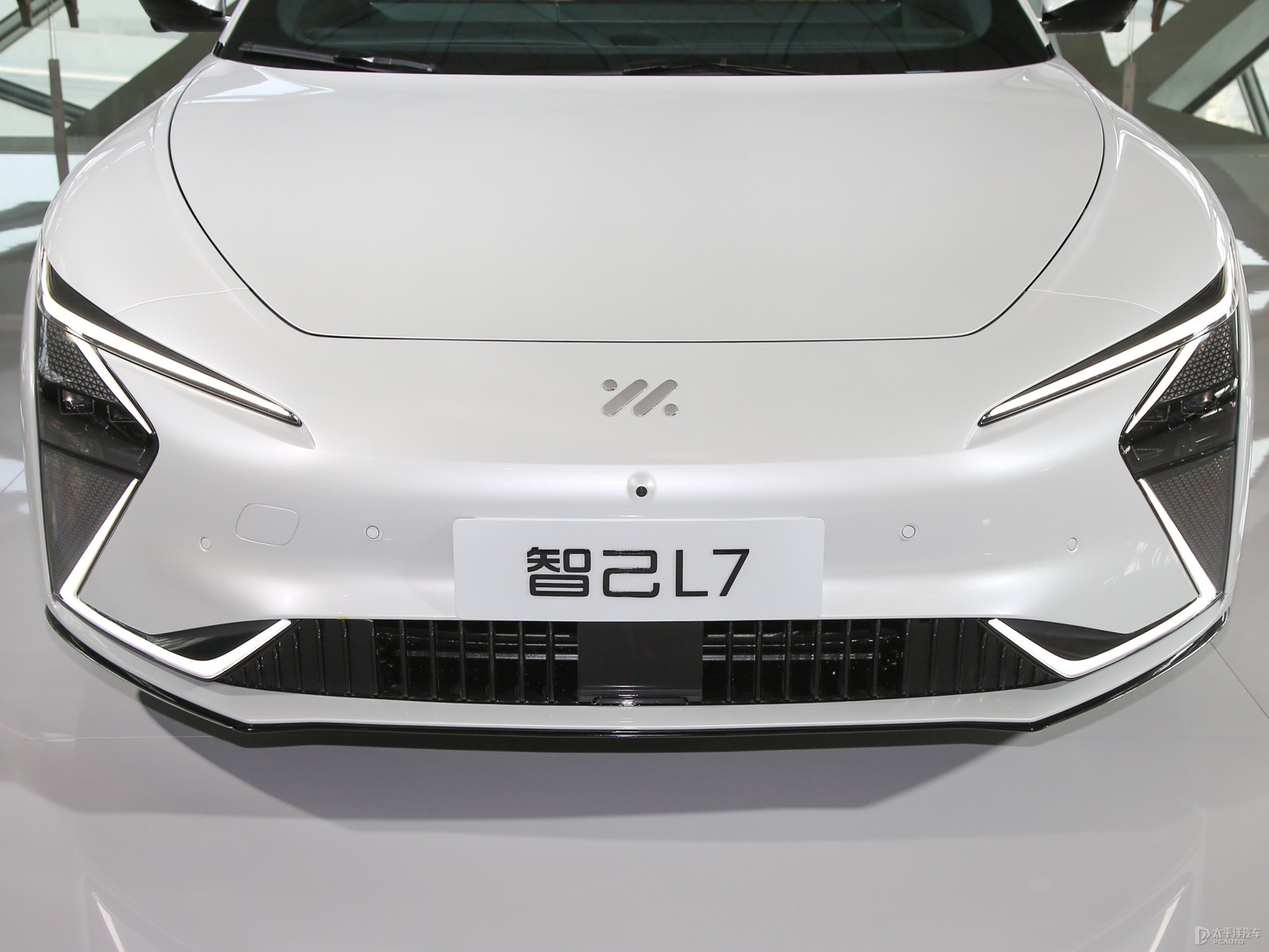IM: (603, 380, 678, 417)
